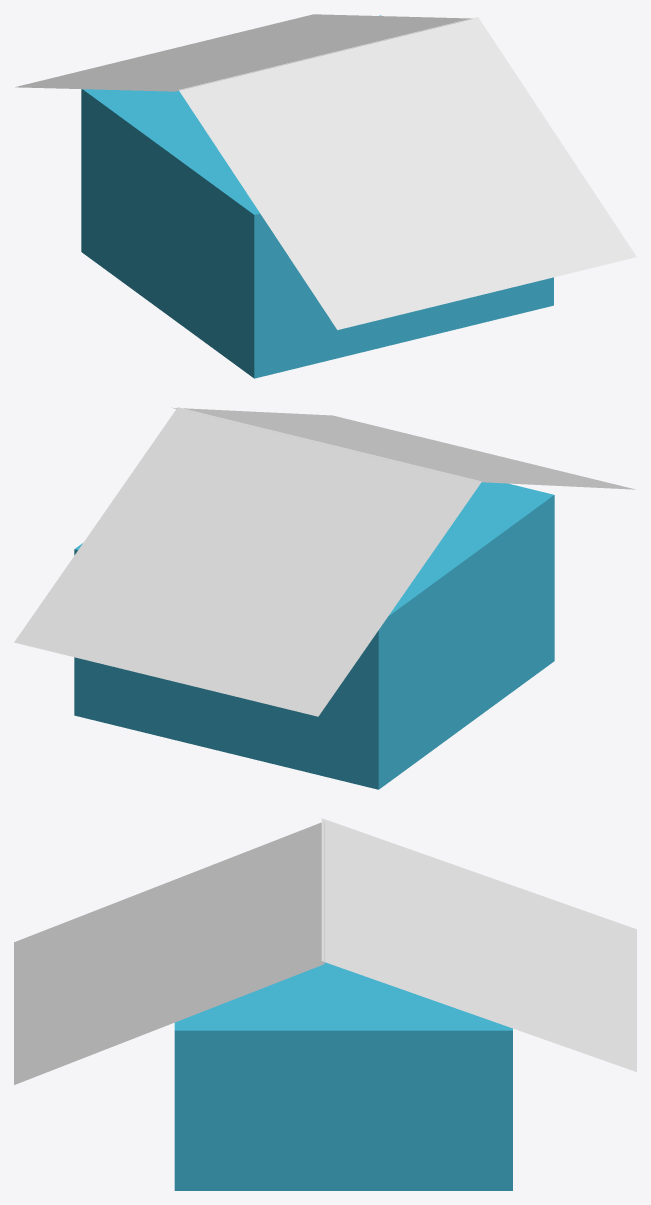
File: SimpleHouse.fbx
3 renders of one model, top to bottom at view 1: azimuth 30°, elevation 25°; view 2: azimuth 150°, elevation 25°; view 3: azimuth 270°, elevation 25°, orthographic. The views are drawn at different scales.
Parts seen in each view (by area): view 1: Plane, Cube, Plane.002; view 2: Plane.002, Cube, Plane; view 3: Cube, Plane.002, Plane.
Part boxes in pixels (x1,y1,x2,y2): Plane: [179, 17, 636, 329]; Cube: [81, 15, 553, 378]; Plane.002: [15, 14, 473, 91]; Plane.002: [14, 407, 481, 716]; Cube: [74, 482, 554, 789]; Plane: [172, 407, 635, 489]; Cube: [174, 962, 512, 1190]; Plane.002: [321, 818, 636, 1071]; Plane: [14, 821, 324, 1084].
Bounding box in the file's own units: 203 × 149 × 368.
